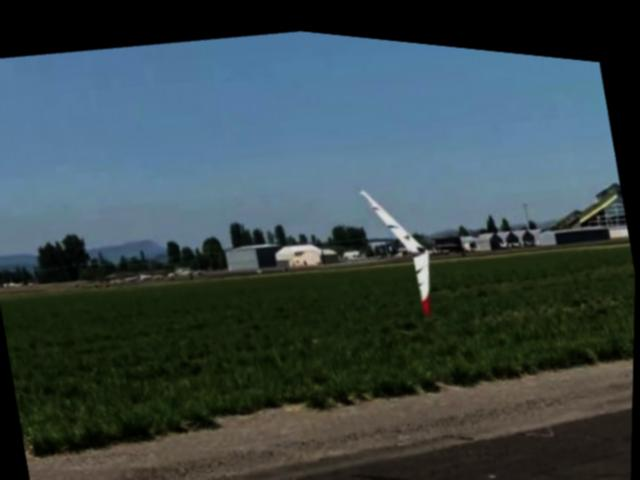flying wing: (358, 168, 446, 320)
